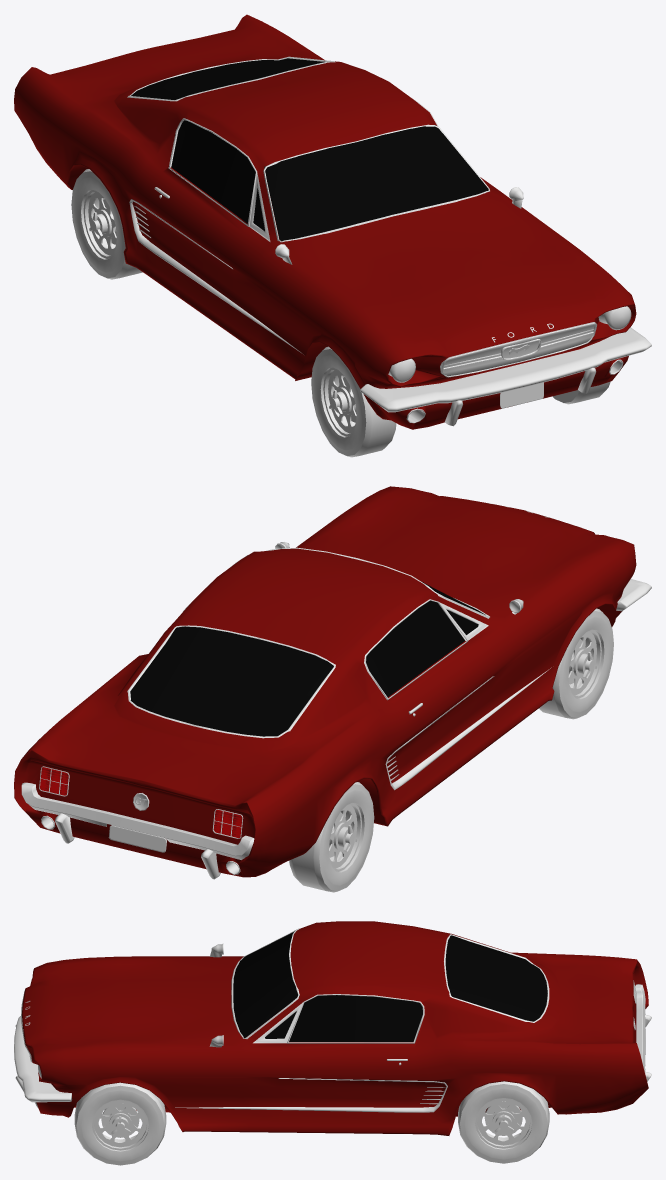
The model's file is ford mustan gt1967.fbx.
The picture shows the model from 3 angles, top to bottom: view 1: azimuth 30°, elevation 25°; view 2: azimuth 150°, elevation 25°; view 3: azimuth 270°, elevation 25°; orthographic projection. The views are drawn at different scales.
Visible parts, largest first — view 1: Plane.010, Plane.000, Plane.003; view 2: Plane.010, Plane.003, Plane.000; view 3: Plane.010, Plane.015, Plane.002.
Boxes of the visible parts, x1,y1,x2,y2 form: Plane.010: [14, 14, 651, 429]; Plane.000: [311, 346, 396, 457]; Plane.003: [71, 169, 142, 279]; Plane.010: [14, 486, 651, 879]; Plane.003: [289, 782, 374, 892]; Plane.000: [539, 608, 613, 719]; Plane.010: [14, 921, 651, 1135]; Plane.015: [74, 1082, 166, 1165]; Plane.002: [458, 1081, 549, 1163].
Size of the model in its own units: 237 by 180 by 612.
8 materials, 1 textured.
